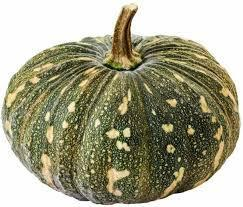pumpkin: (0, 2, 240, 205)
